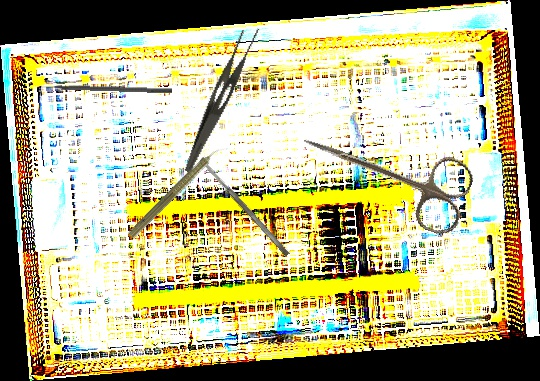Dressing Forceps: (183, 20, 262, 180)
Handpiece: (126, 138, 230, 243)
Hook Surgical: (36, 82, 173, 94)
Iris Scissors: (290, 107, 478, 240)
Spatula Surgical: (199, 157, 291, 258)
